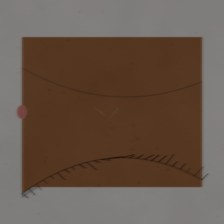corneal_ulcer: (86, 103, 130, 139)
